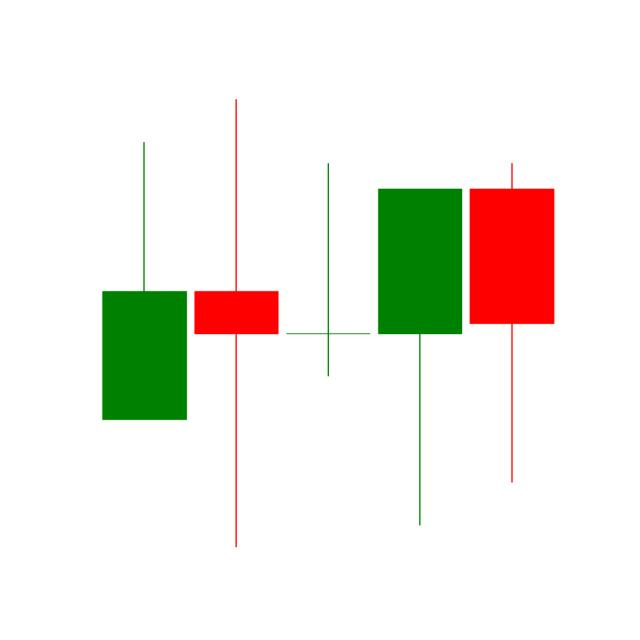Gravenstone Doji: (286, 157, 369, 380)
High Wave: (191, 82, 281, 553)
Inverted Hammer: (97, 128, 188, 421)
